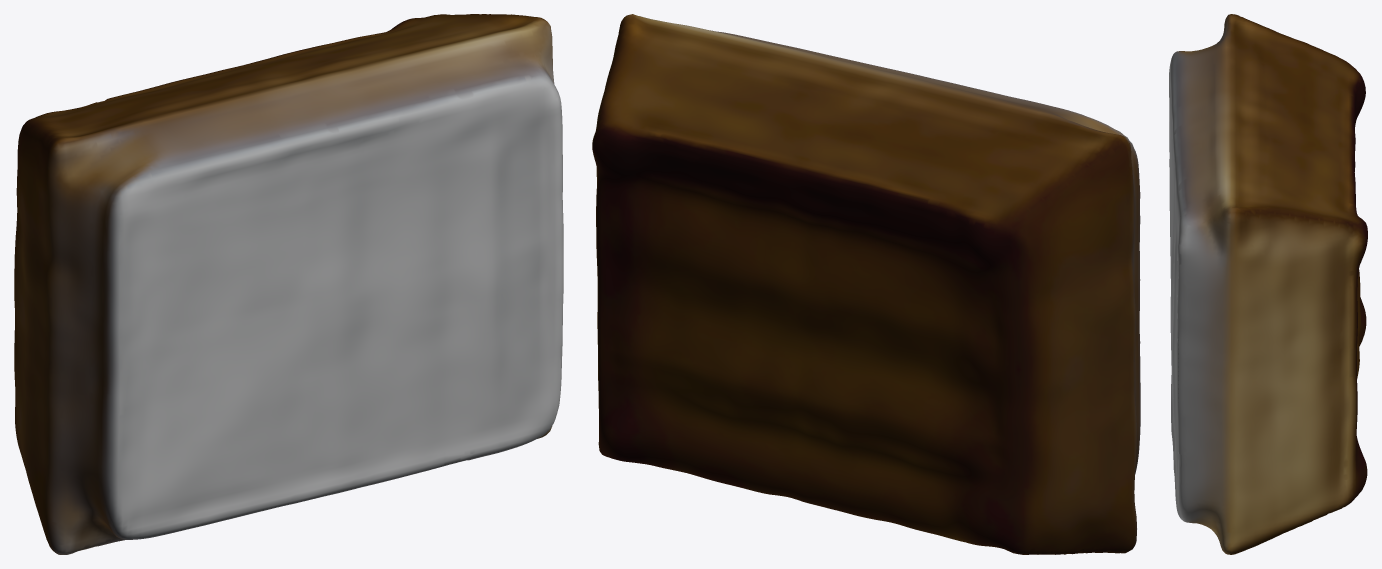
The model's file is soap.glb.
The picture shows the model from 3 angles, left to right: view 1: azimuth 30°, elevation 25°; view 2: azimuth 150°, elevation 25°; view 3: azimuth 270°, elevation 25°; orthographic projection. The views are drawn at different scales.
Size of the model in its own units: 0.9995 by 0.7856 by 0.407.
